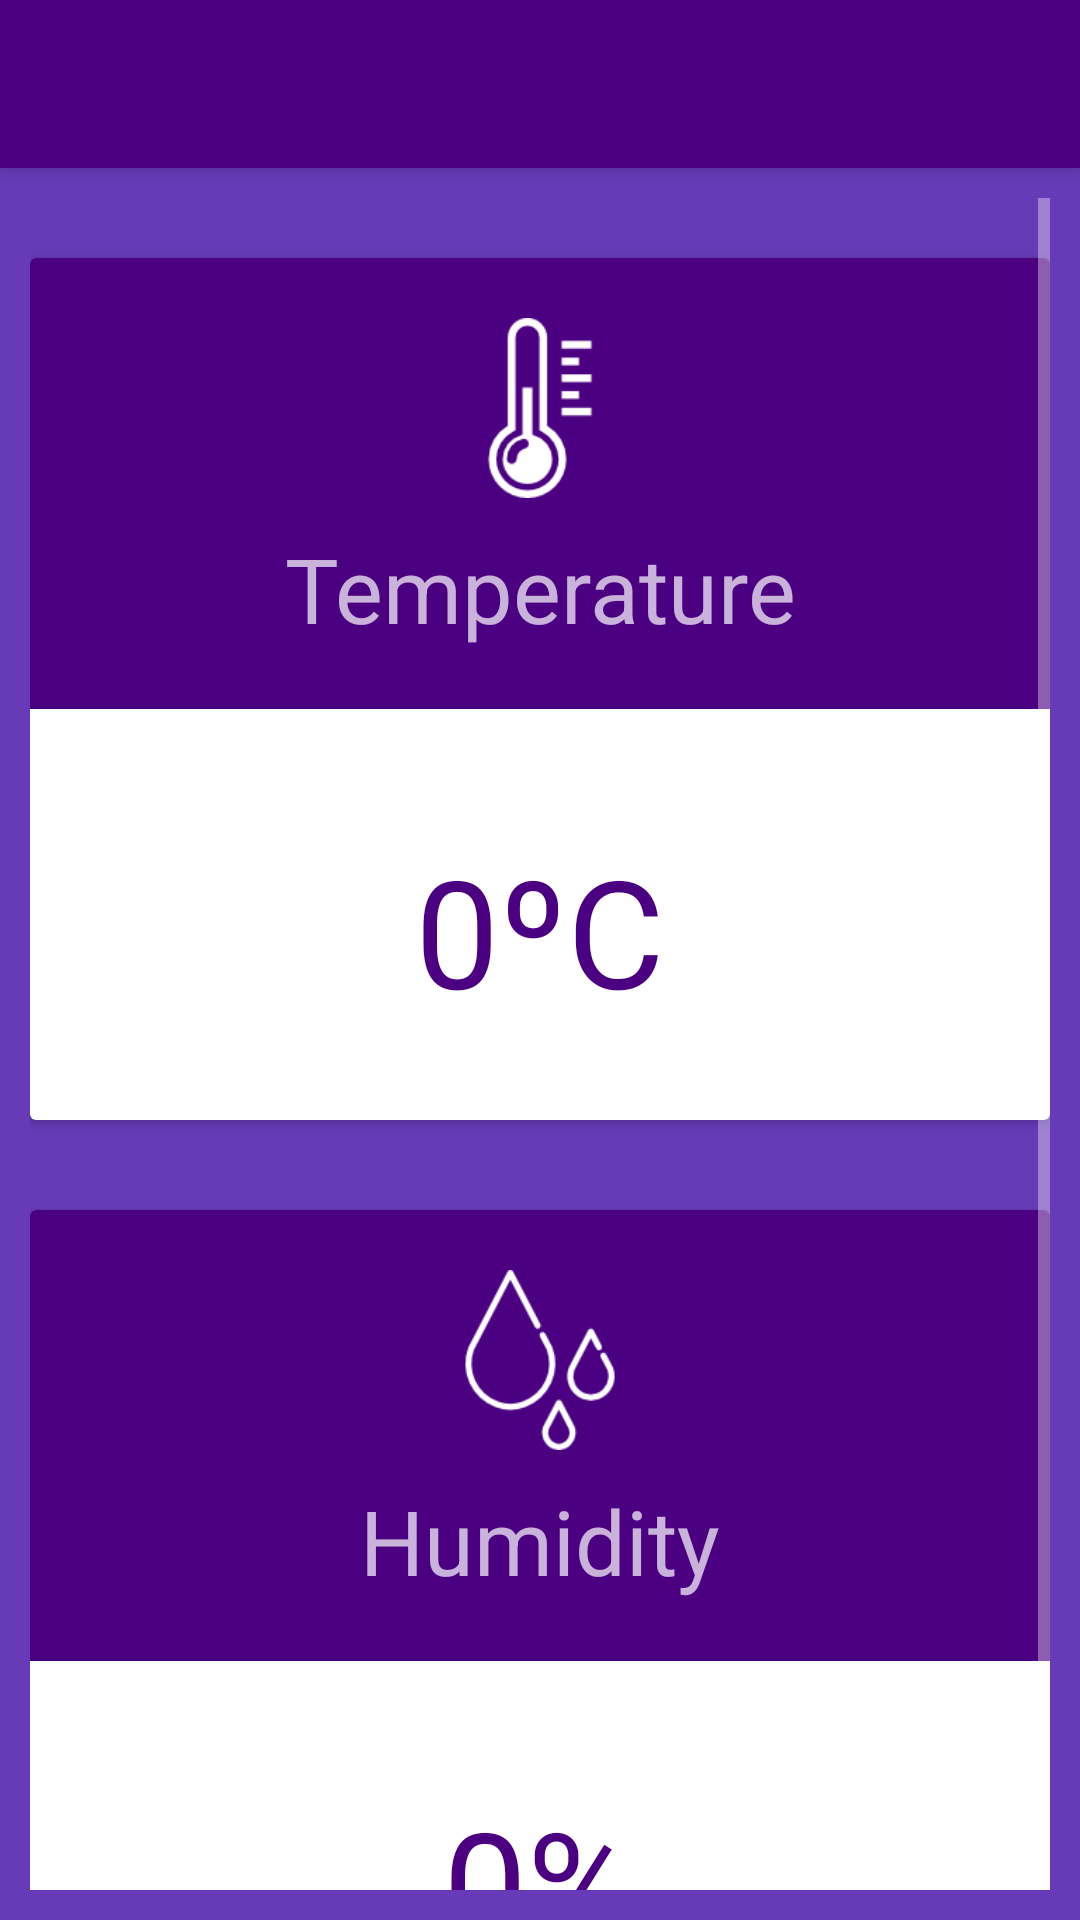

Where to tap for icons on this 1080×1920 app screen, as point (x, y):
drop: point (540, 1360)
thermometer: point (540, 408)
